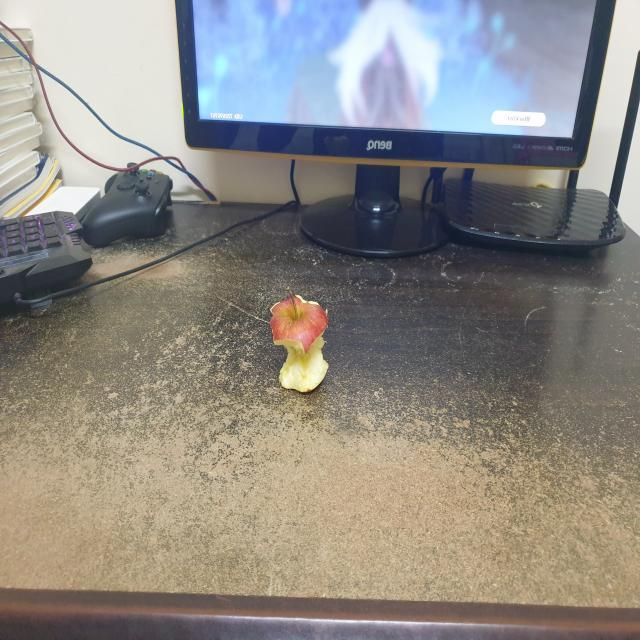apple: (268, 284, 334, 406)
